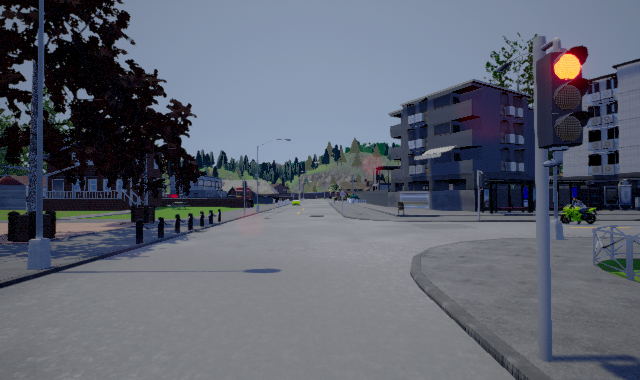traffic_light: (536, 43, 590, 147)
vehicle: (560, 199, 598, 224)
